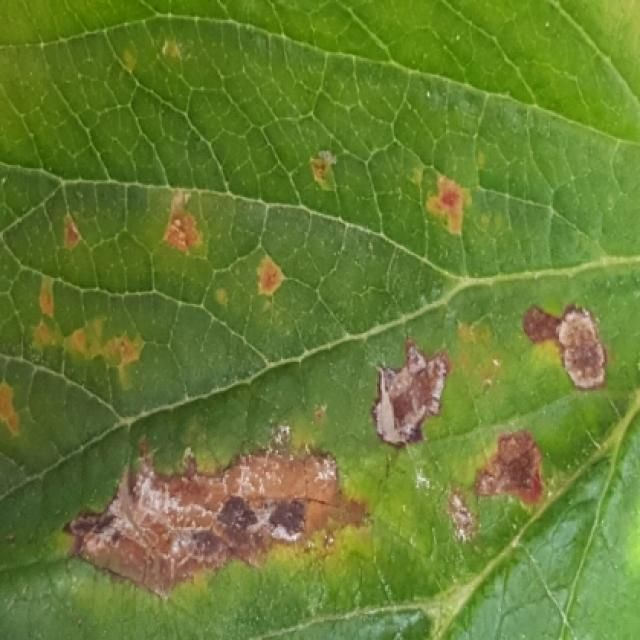Angular Leafspot: (0, 30, 621, 606)
